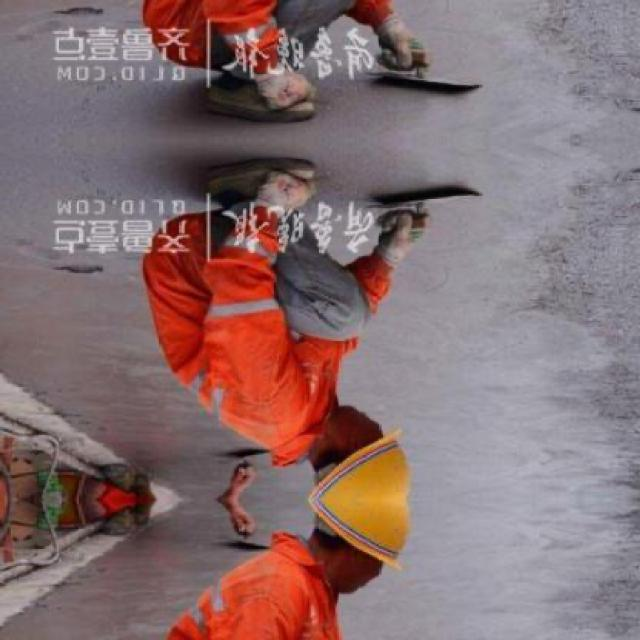con casco: (237, 338, 413, 502)
